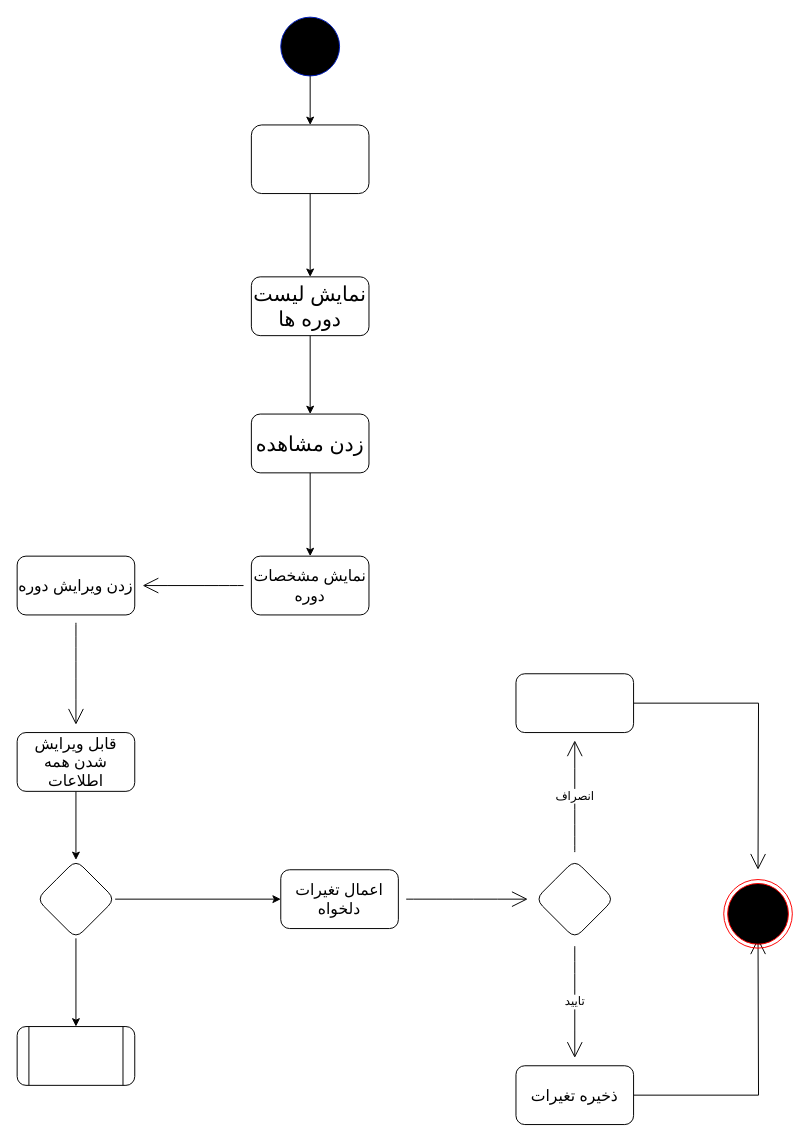
This 809x1142 diagram has some shape labels left out. The shapes that lost their labels are listed below. From the top down, each one's box as (x1, y1, x2, y2) in pixels, then its label:
(250, 124, 369, 194): کلیک روی دوره های من
(515, 673, 634, 733): عدم ذخیره تغیرات
(16, 1026, 135, 1085): ویرایش آزمون
